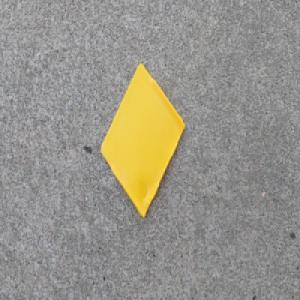PlasticPart: (99, 63, 185, 220)
